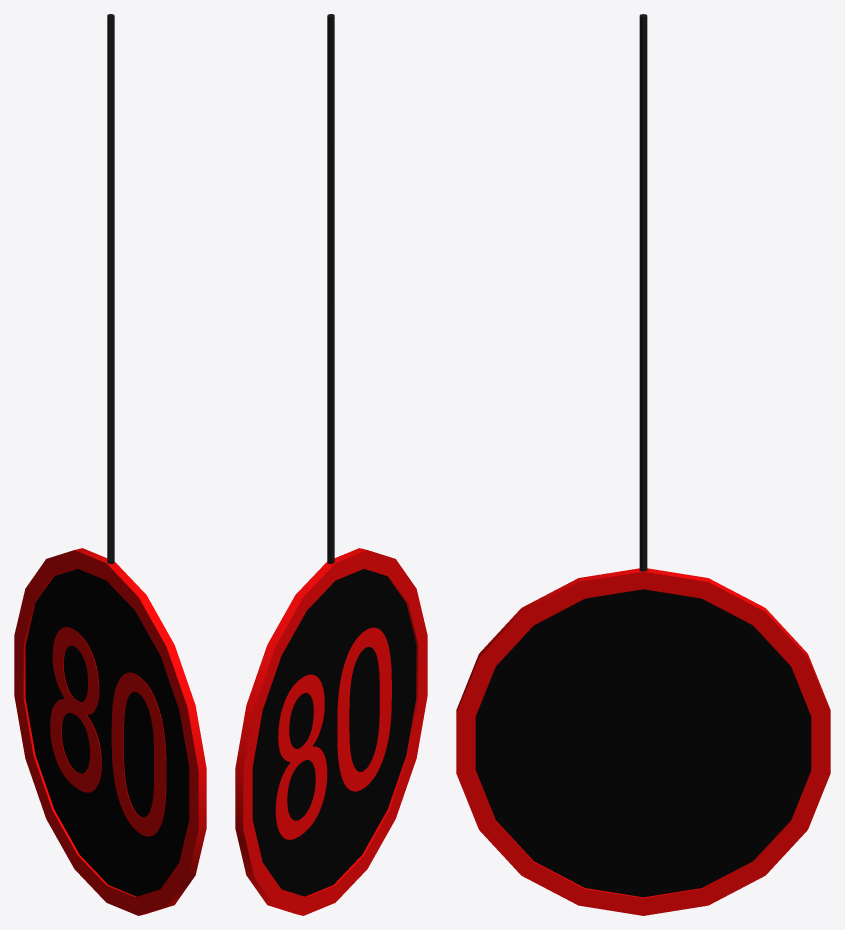
Rendered from xiansu80.obj.
The picture shows the model from 3 angles, left to right: view 1: azimuth 30°, elevation 25°; view 2: azimuth 150°, elevation 25°; view 3: azimuth 270°, elevation 25°; orthographic projection.
Parts seen in each view (by area): view 1: xiansu; view 2: xiansu; view 3: xiansu.
Part boxes in pixels (bbox=[...]): xiansu: bbox=[14, 14, 206, 915]; xiansu: bbox=[235, 14, 427, 915]; xiansu: bbox=[456, 14, 830, 915].
Size of the model in its own units: 20 by 2081 by 785.
